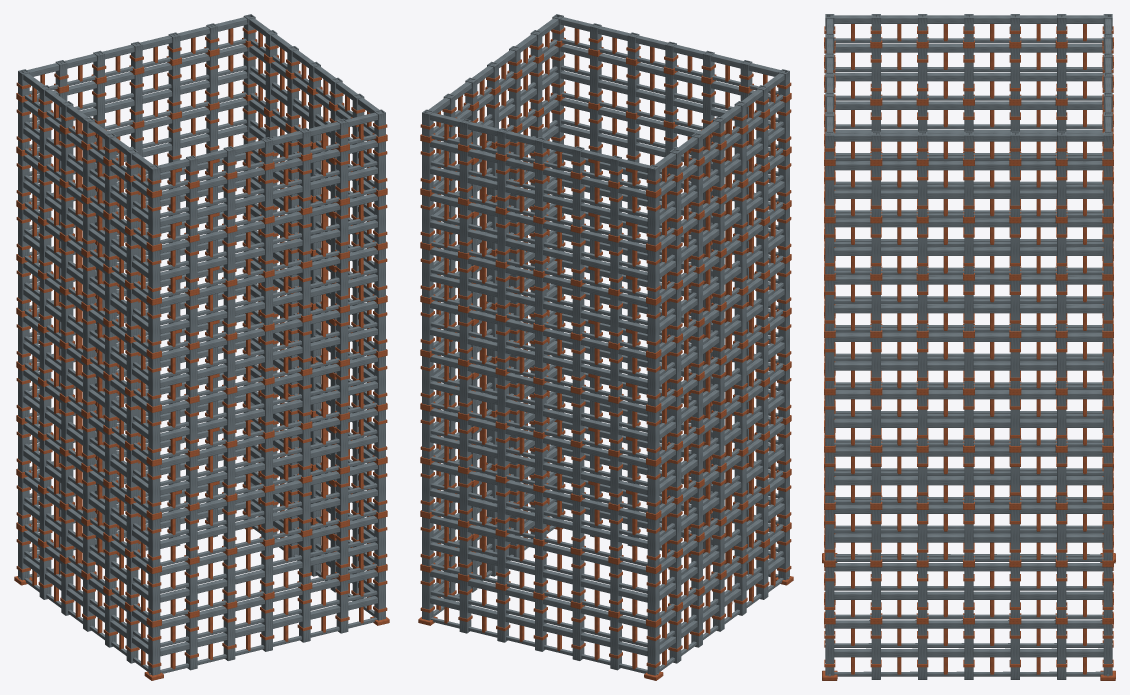
3 renders of one model, left to right at view 1: azimuth 30°, elevation 25°; view 2: azimuth 150°, elevation 25°; view 3: azimuth 270°, elevation 25°, orthographic. The views are drawn at different scales.
Visible parts, largest first — view 1: Tier 0 side 0 post 0; view 2: no part large enough to name; view 3: Tier 0 side 1 post 3, Tier 0 side 1 post 1, Tier 0 side 1 post 2, Tier 0 side 1 post 4, Tier 0 side 1 post 5, Tier 3 side 1 post 3, Tier 6 side 1 post 3, Tier 7 side 1 post 3, Tier 8 side 3 post 3, Tier 0 side 1 post 0, Tier 0 side 2 post 0, Tier 7 side 1 post 0 (+56 smaller).
Boxes of the visible parts, <box> form: Tier 0 side 0 post 0: <box>148,625,160,675</box>; Tier 0 side 1 post 3: <box>964,624,973,679</box>; Tier 0 side 1 post 1: <box>871,624,880,679</box>; Tier 0 side 1 post 2: <box>918,624,927,679</box>; Tier 0 side 1 post 4: <box>1010,624,1019,679</box>; Tier 0 side 1 post 5: <box>1057,624,1066,679</box>; Tier 3 side 1 post 3: <box>964,452,973,503</box>; Tier 6 side 1 post 3: <box>964,280,973,331</box>; Tier 7 side 1 post 3: <box>964,223,973,274</box>; Tier 8 side 3 post 3: <box>964,48,973,99</box>; Tier 0 side 1 post 0: <box>825,624,834,675</box>; Tier 0 side 2 post 0: <box>1103,624,1112,675</box>; Tier 7 side 1 post 0: <box>825,223,834,274</box>.
Size of the model in its own units: 2.85 by 5.83 by 2.85.
Materials: 2 (2 with a texture image).
